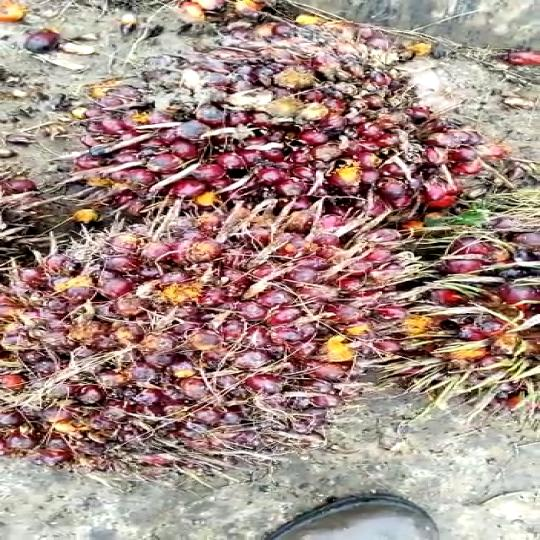masak: (0, 200, 430, 478), (41, 46, 474, 241)
